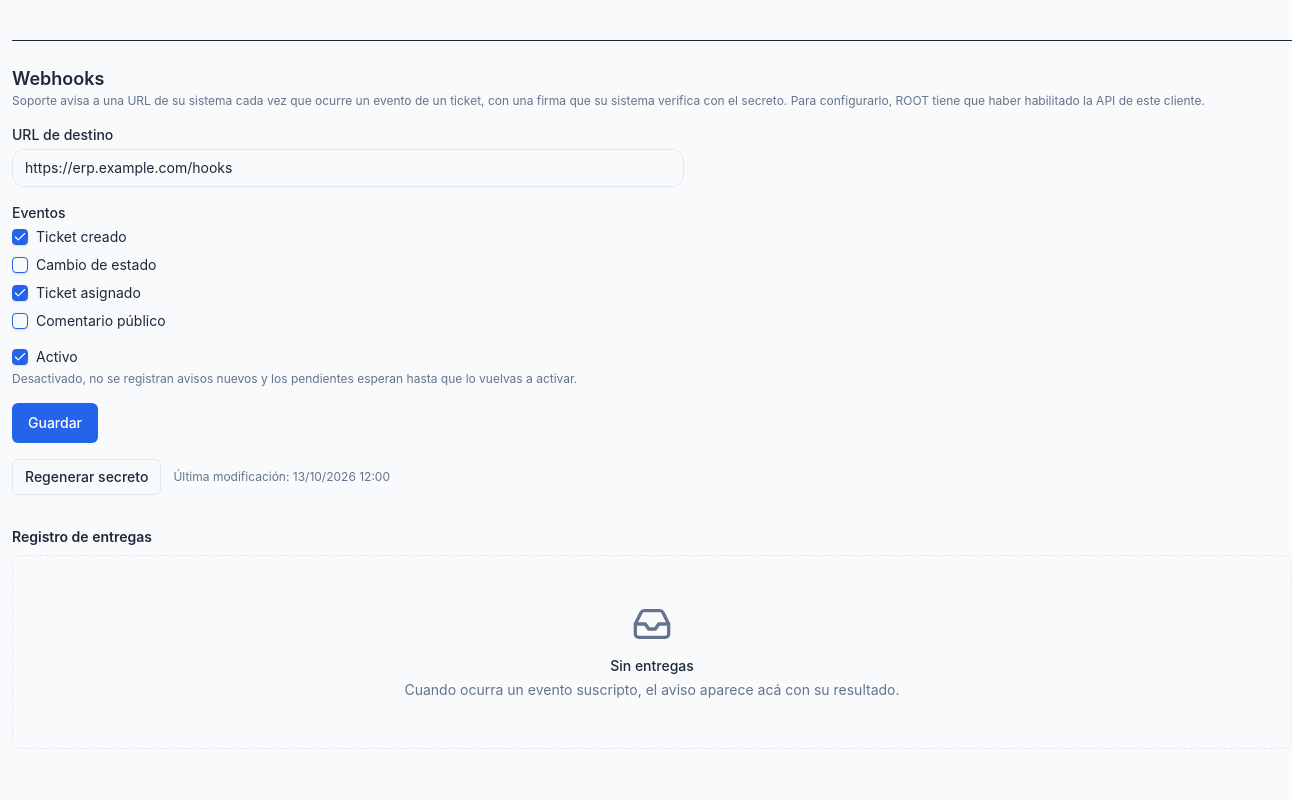
Scenario: WebhookSection › un 422 WEBHOOK_URL_INVALIDA se muestra en el formulario
The width and height of the screenshot is (1292, 800).
Click the button "Guardar". click: click(55, 423)
box: x1=12 y1=403 x2=98 y2=443
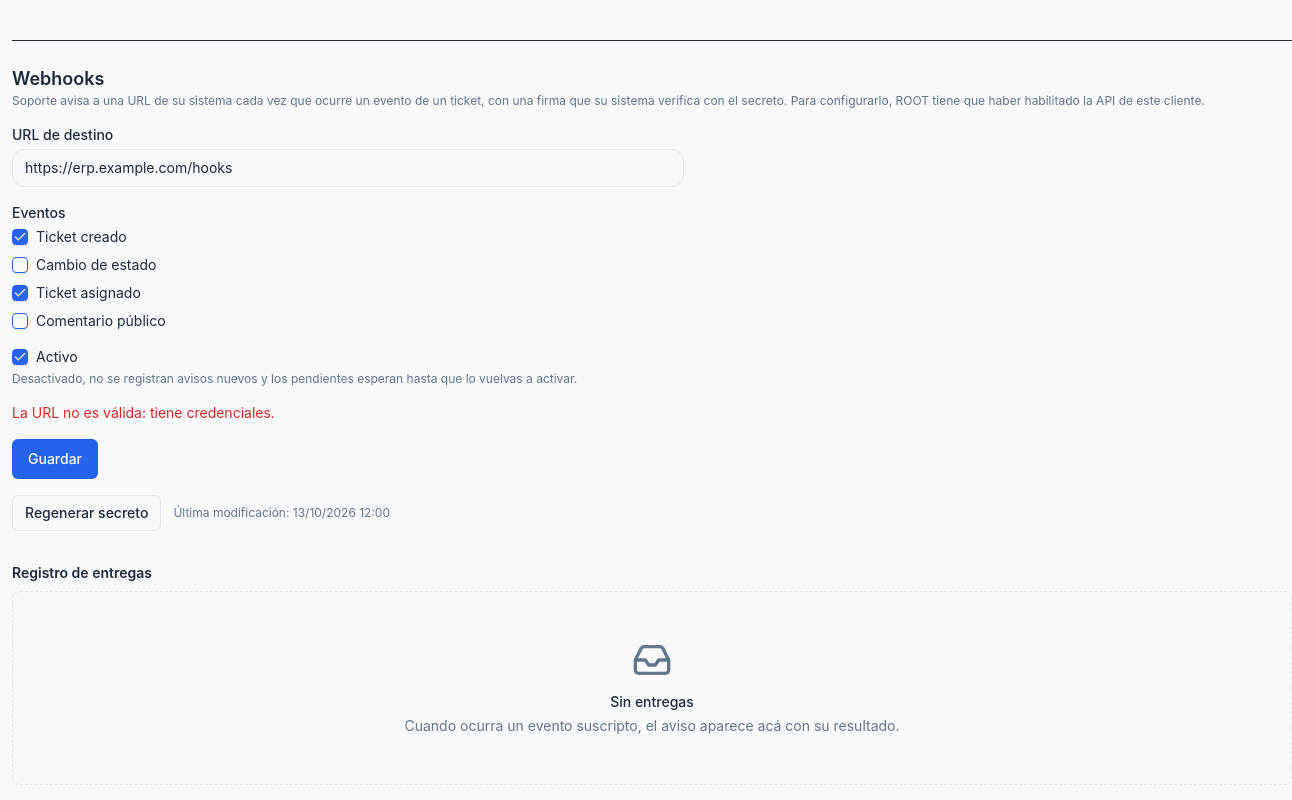
Check: the message reads "La URL no es válida: tiene credenciales.", box x1=12 y1=404 x2=275 y2=421
